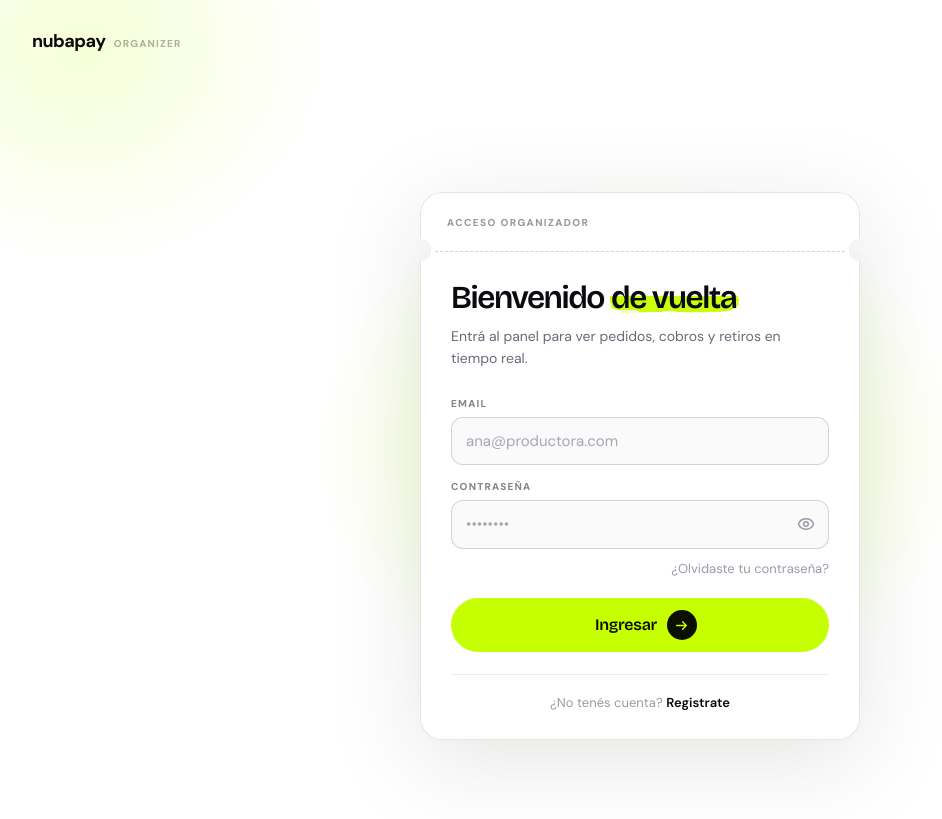
Test: LoginView › muestra error con credenciales incorrectas
The image size is (942, 819).
Type "malo@test.com" into the field labelled "Email". click: {"x": 640, "y": 441}
box: x1=451 y1=417 x2=829 y2=465
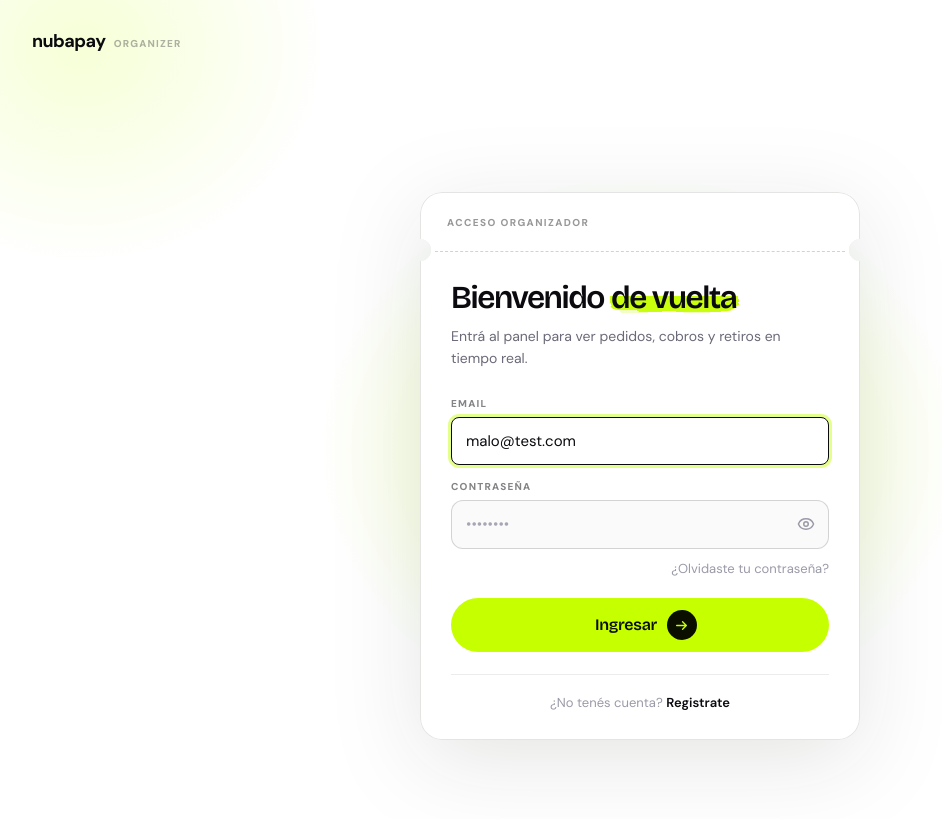
Type "wrong" into the password field labelled "Contraseña". click: {"x": 640, "y": 524}
box: x1=451 y1=500 x2=829 y2=549
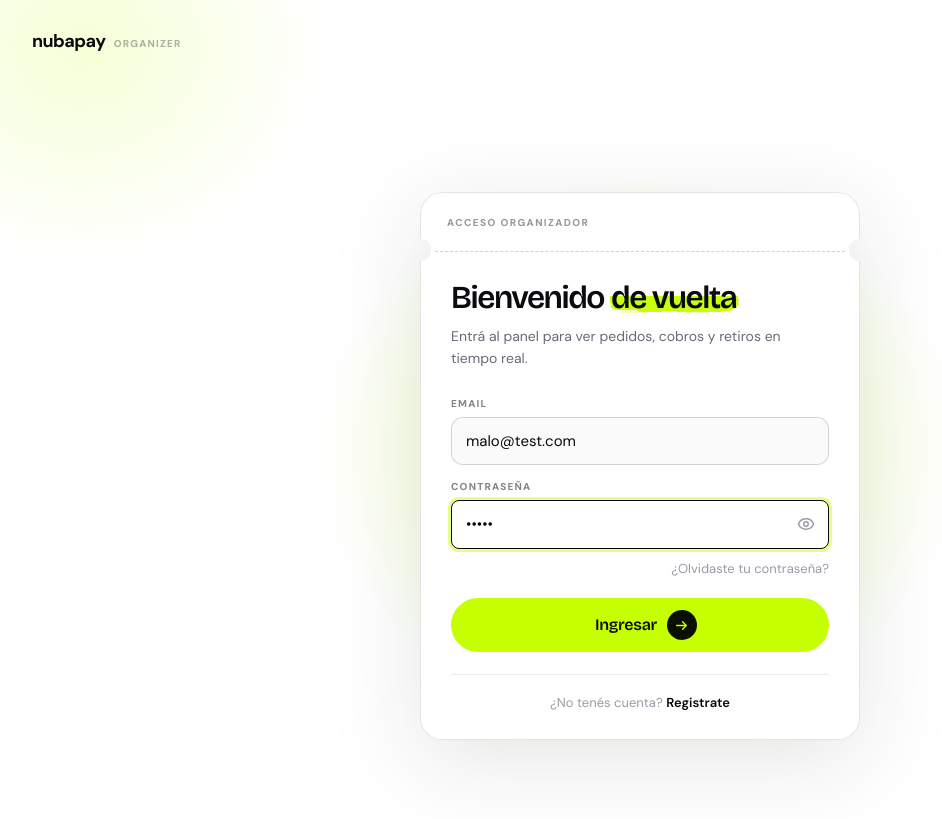
Click the button "Ingresar". click: {"x": 640, "y": 625}
box: x1=451 y1=598 x2=829 y2=652
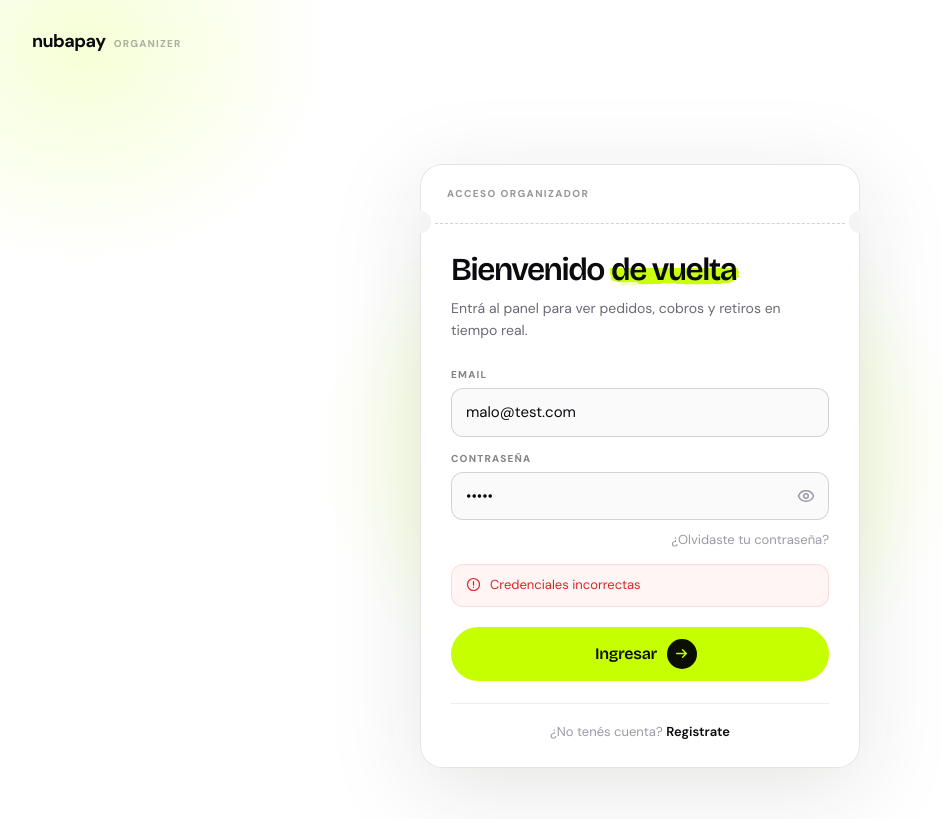
expect the text "Credenciales incorrectas" is shown: met, box x1=490 y1=576 x2=641 y2=595
